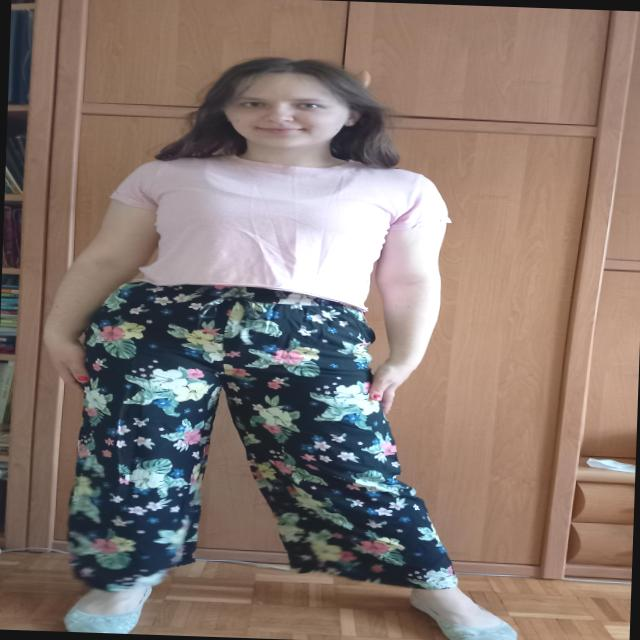Tshirt: (106, 148, 454, 314)
pants: (66, 279, 468, 603)
